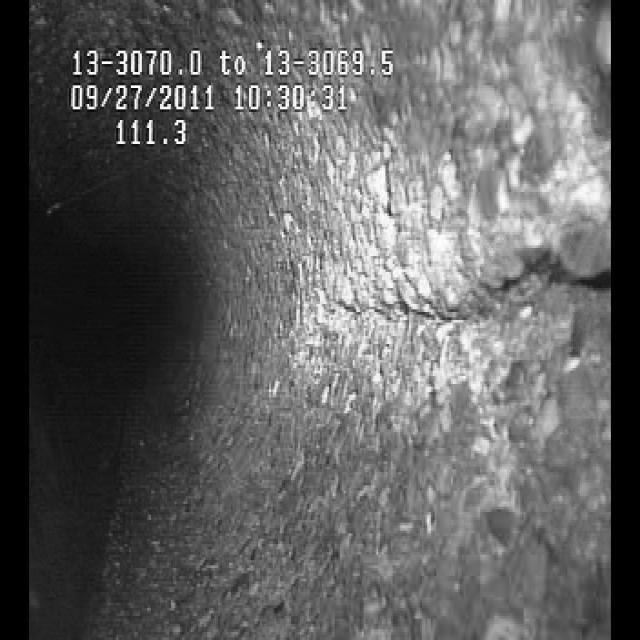Crack: (326, 238, 562, 376)
